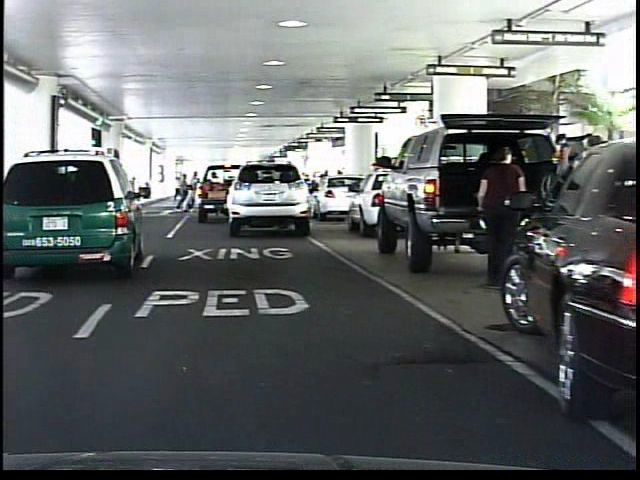person: (465, 145, 527, 284)
